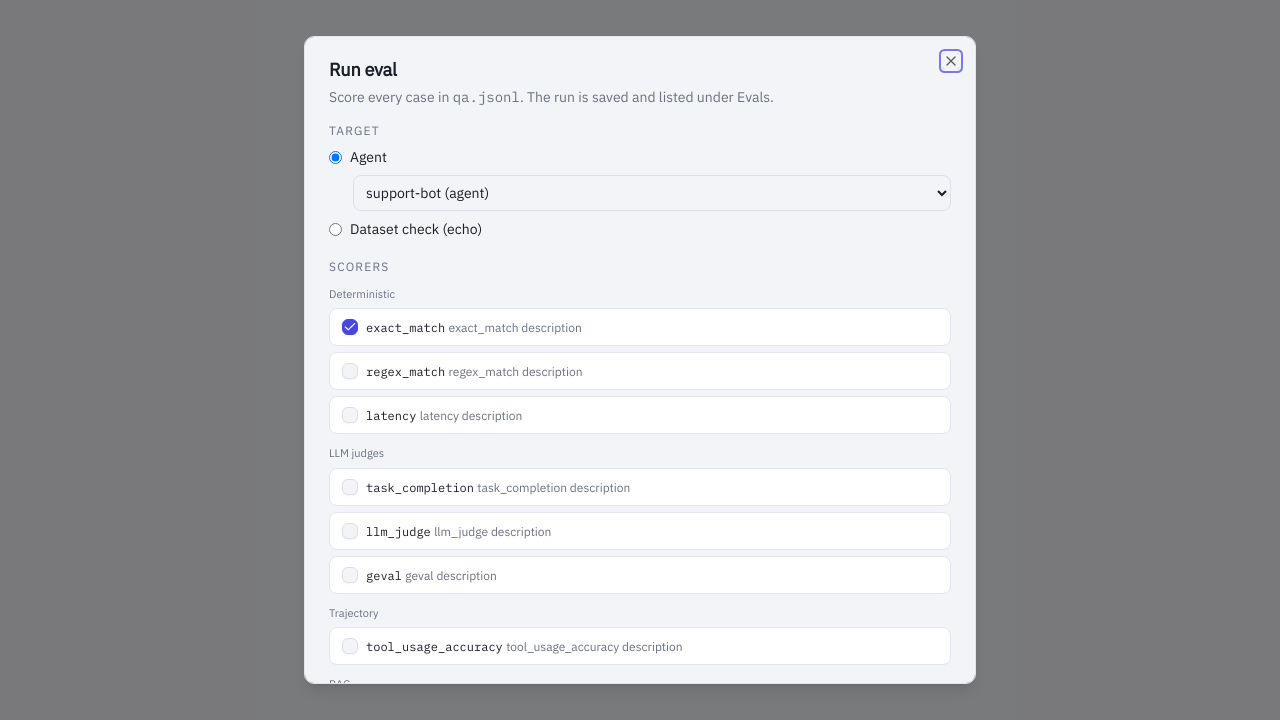
RunEvalDialog › shows a 422 detail verbatim and keeps the form editable
The width and height of the screenshot is (1280, 720).
Click the checkbox named "regex_match" at {"x": 350, "y": 371}, box [342,363,358,379]
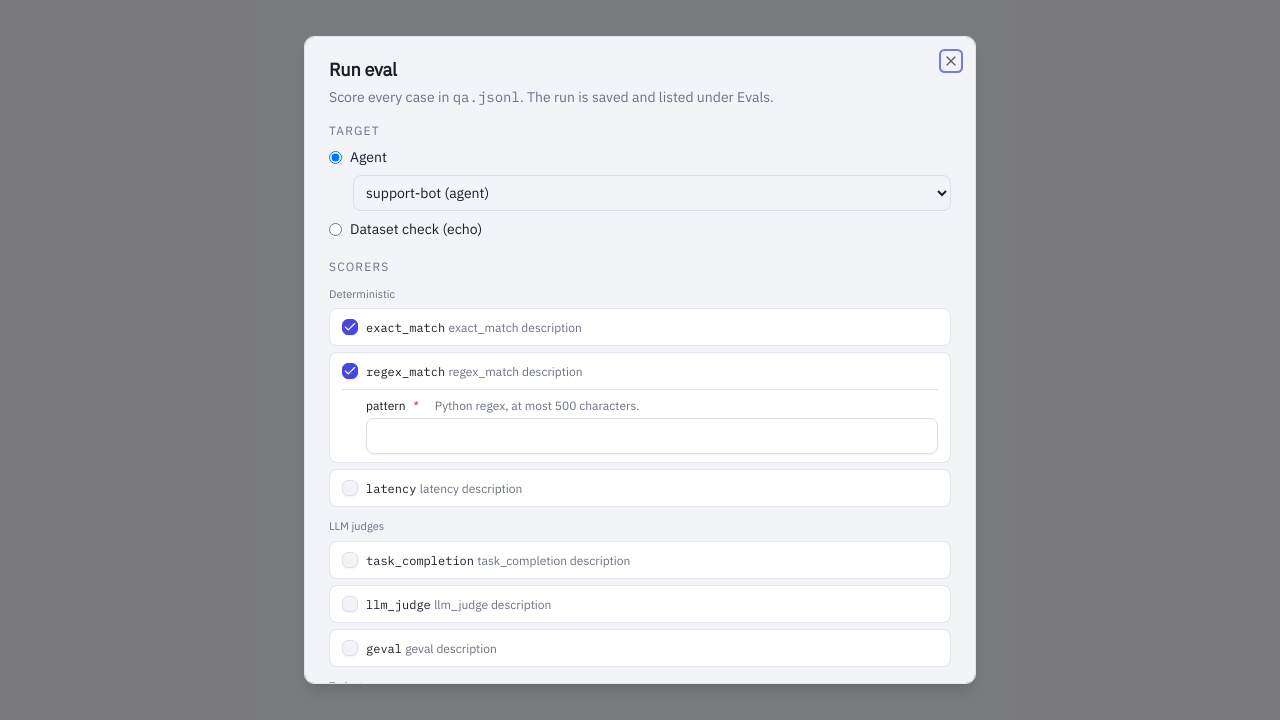
Type "[a-" into the field named "regex_match pattern" at {"x": 652, "y": 436}, box [366,418,938,454]
(page scrolled)
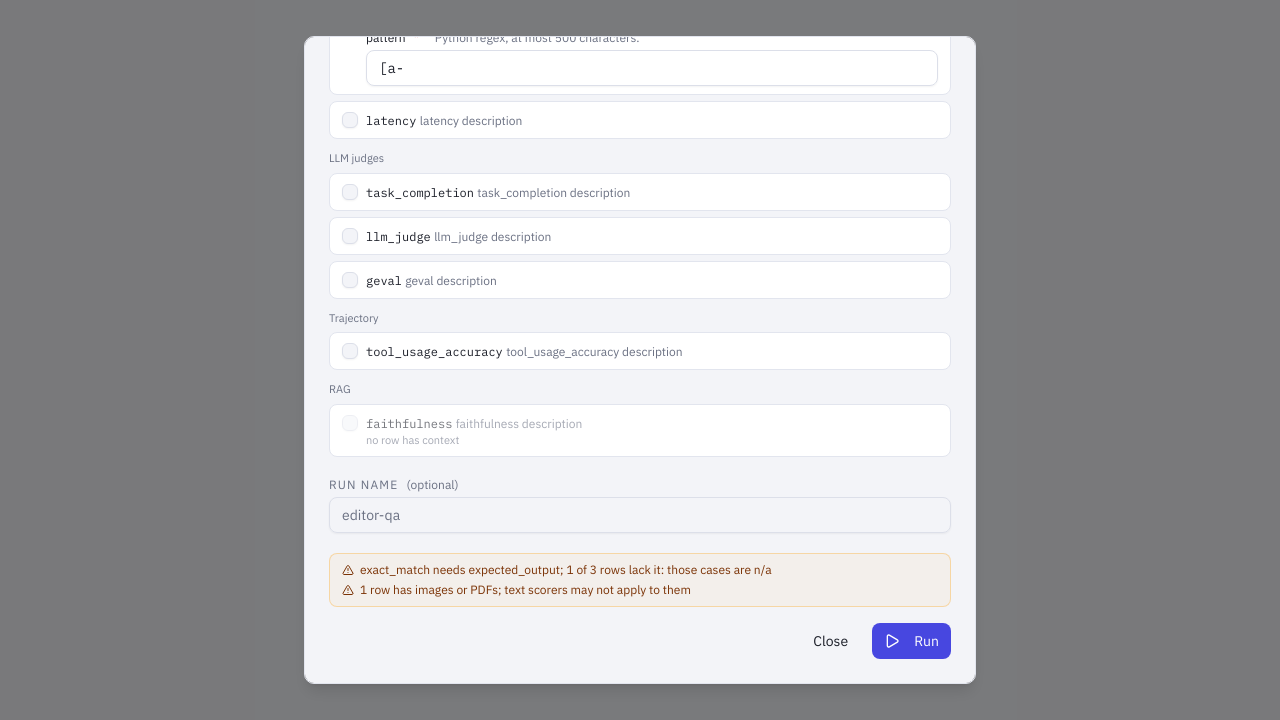
Click the button "Run" at {"x": 912, "y": 641}, box [872,623,951,659]
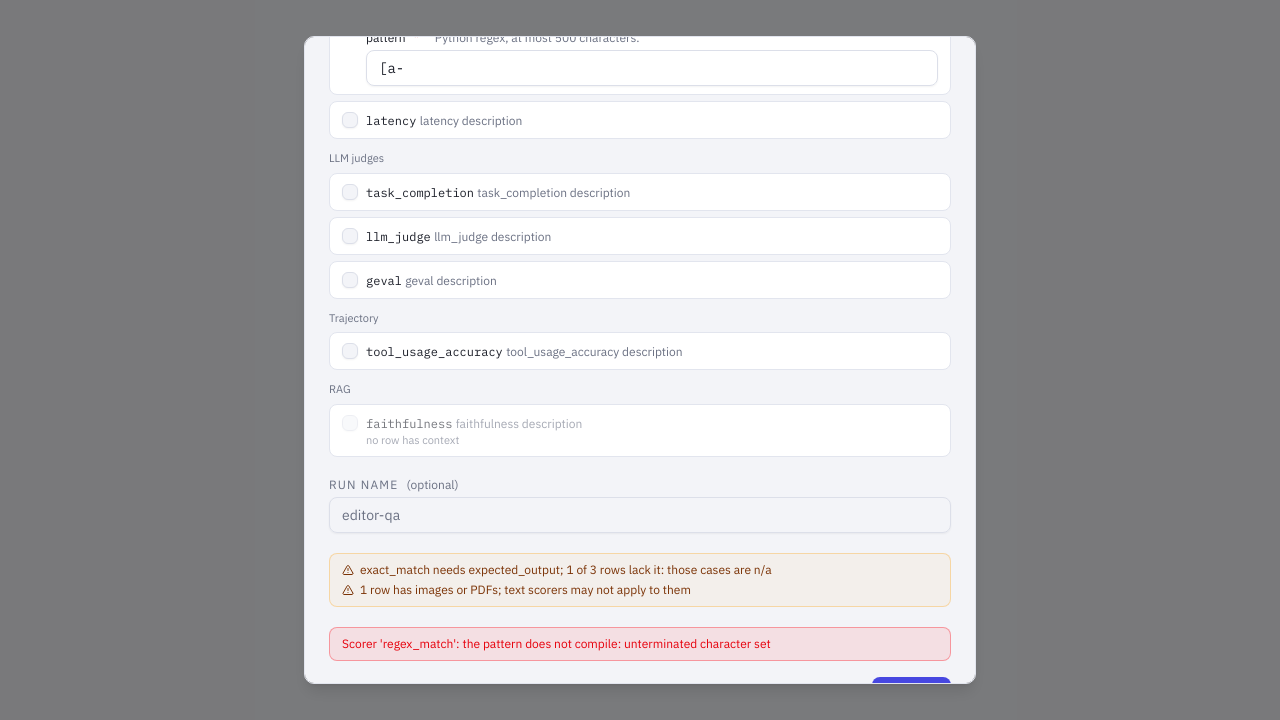
Expected: the field named "regex_match pattern" is enabled, [366,50,938,86]
Expected: the message reads "Scorer 'regex_match': the pattern does not compile: unterminated character set", [342,636,771,651]
